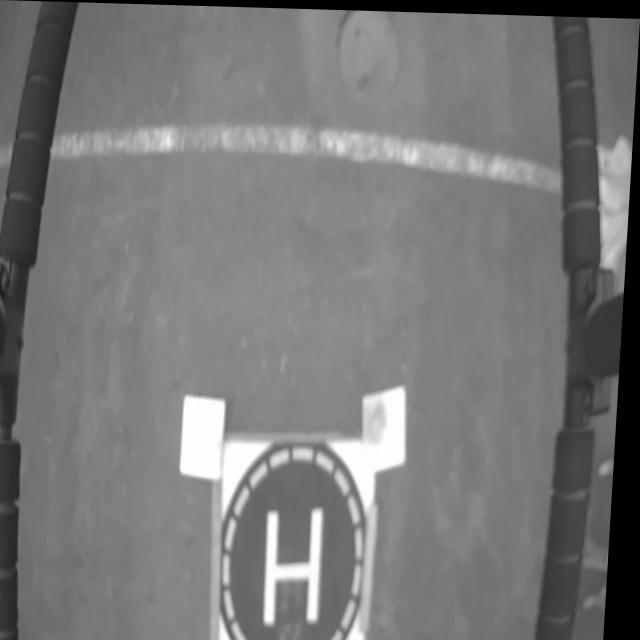Helipad: (269, 504, 331, 624)
